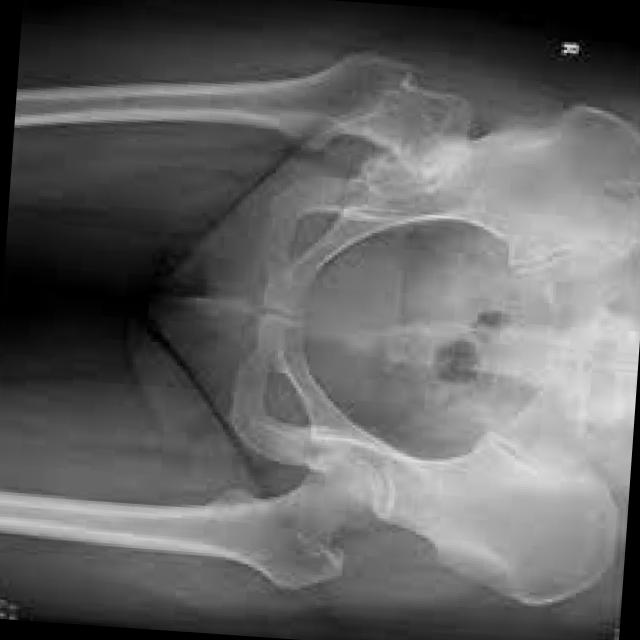normal-left: (106, 451, 384, 591)
right-dislocation: (184, 49, 473, 181)
